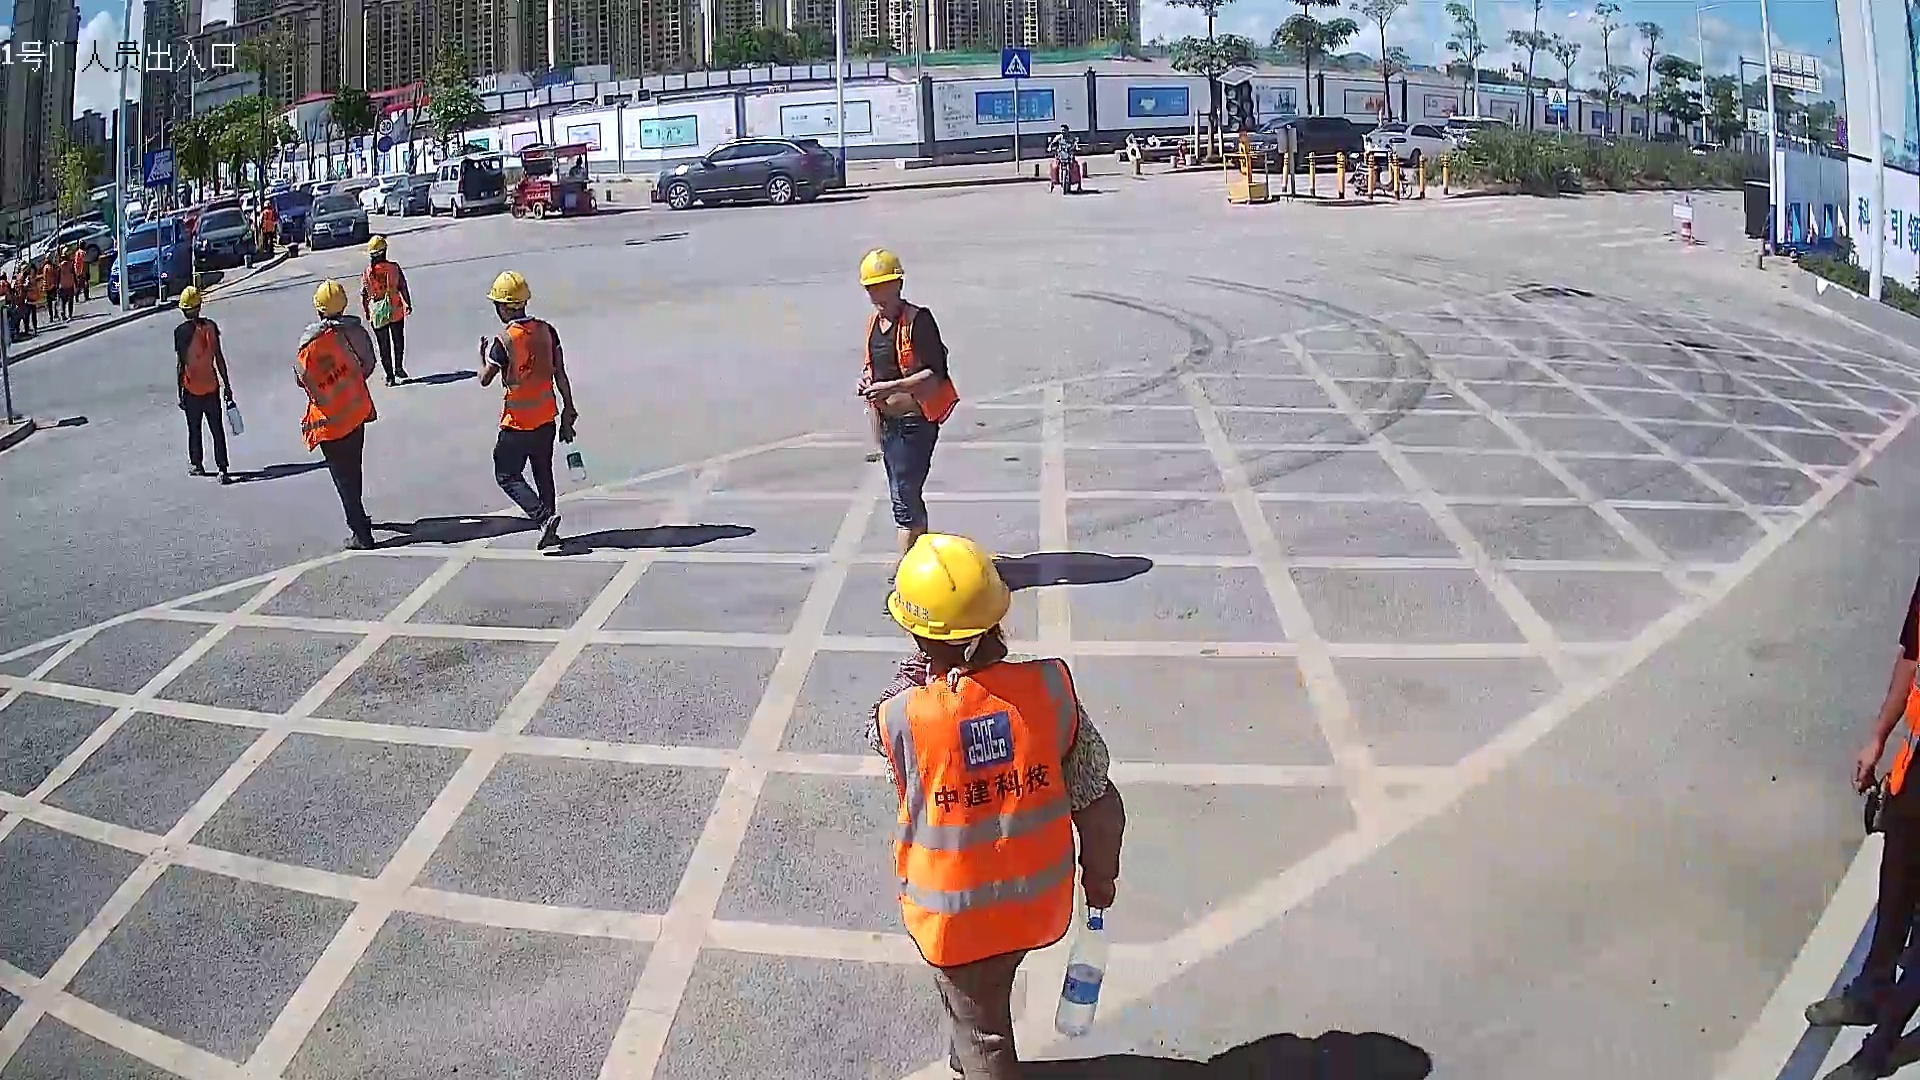ordinary_clothes: (864, 309, 958, 426)
person: (864, 529, 1127, 1080), (854, 242, 962, 580), (473, 266, 584, 560), (289, 271, 382, 554), (170, 277, 235, 486), (359, 230, 418, 386)
reflective_vest: (873, 653, 1081, 972), (291, 322, 376, 454), (492, 317, 563, 435), (894, 298, 959, 425), (359, 258, 407, 329), (179, 316, 219, 398)
safety_helmet: (883, 533, 1015, 675), (856, 244, 910, 313), (485, 267, 532, 325), (309, 272, 350, 320), (177, 283, 203, 320), (364, 230, 388, 262)
